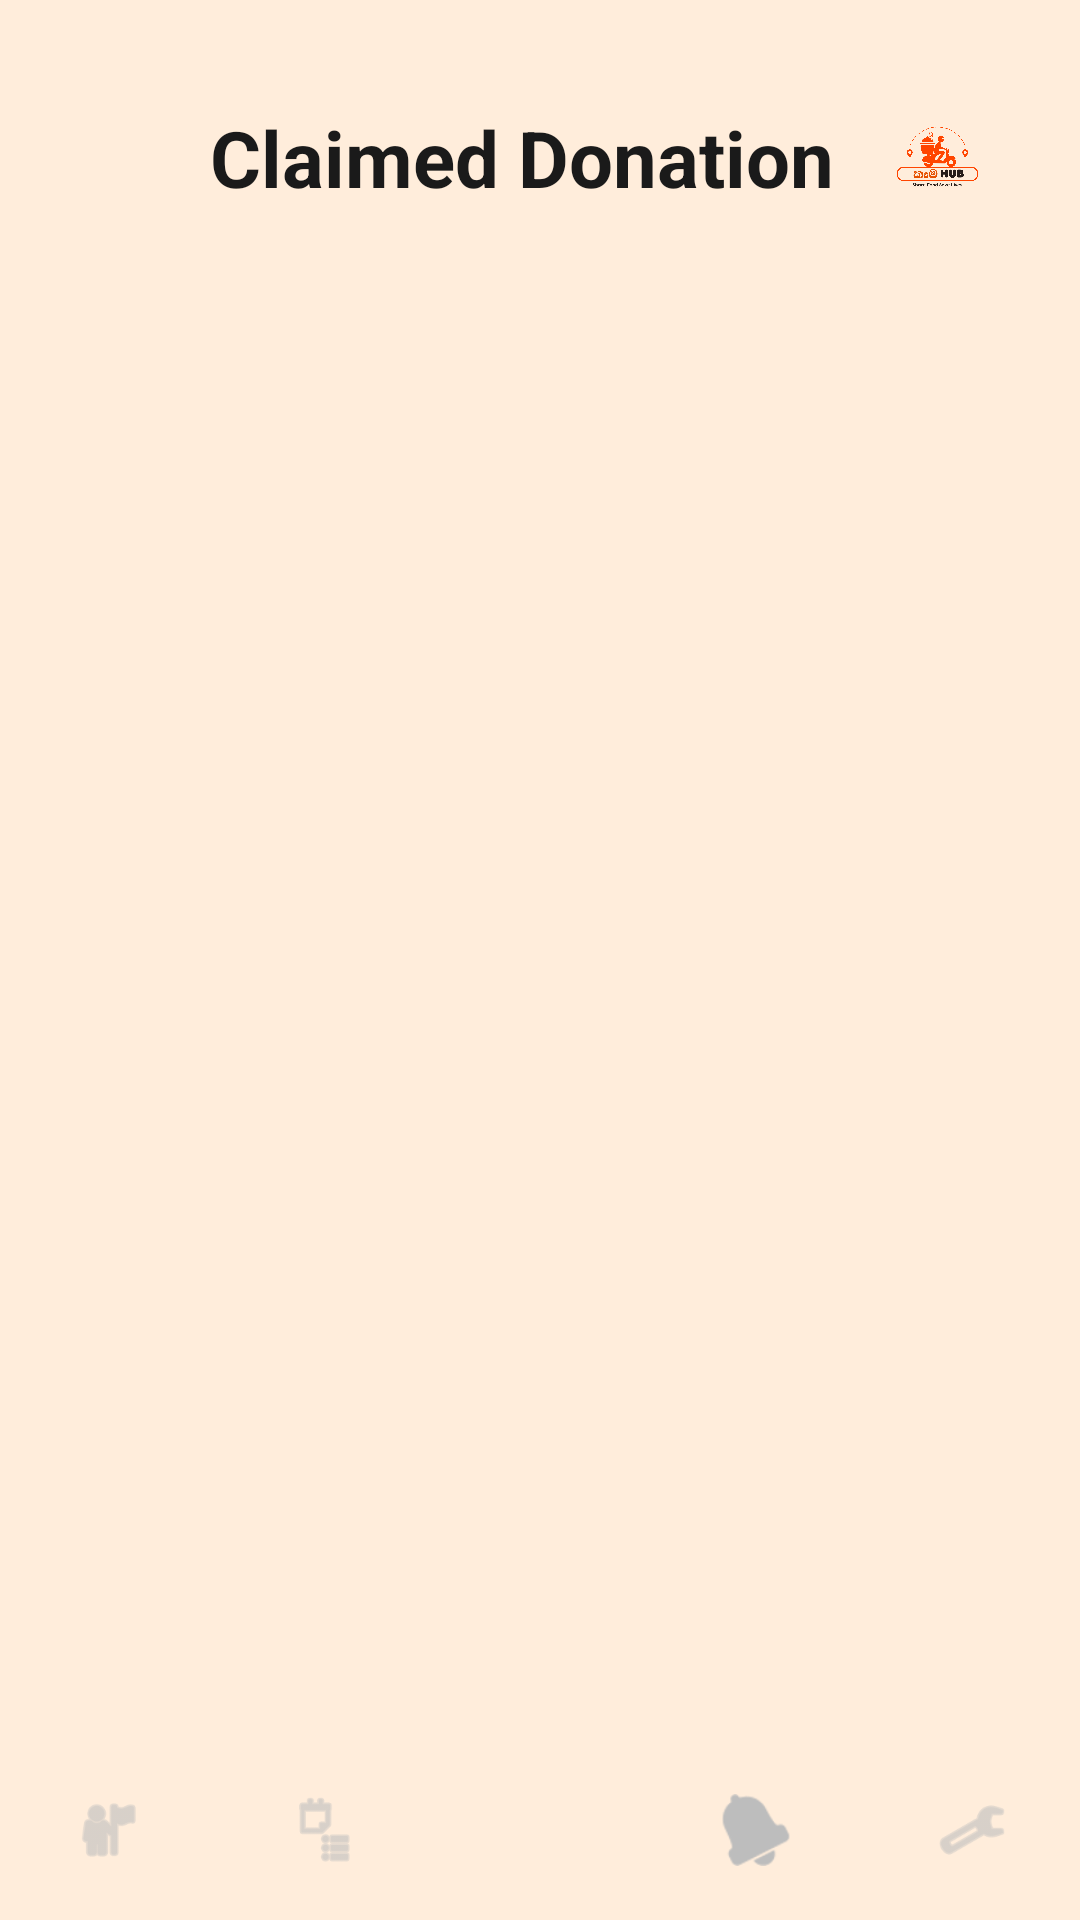

Icon click points for this 1080w x 1920h phone screenshot, format (x=x, y=y):
agenda: (x=324, y=1829)
manage: (x=972, y=1830)
myplaces: (x=109, y=1830)
popup reminder: (x=756, y=1830)
